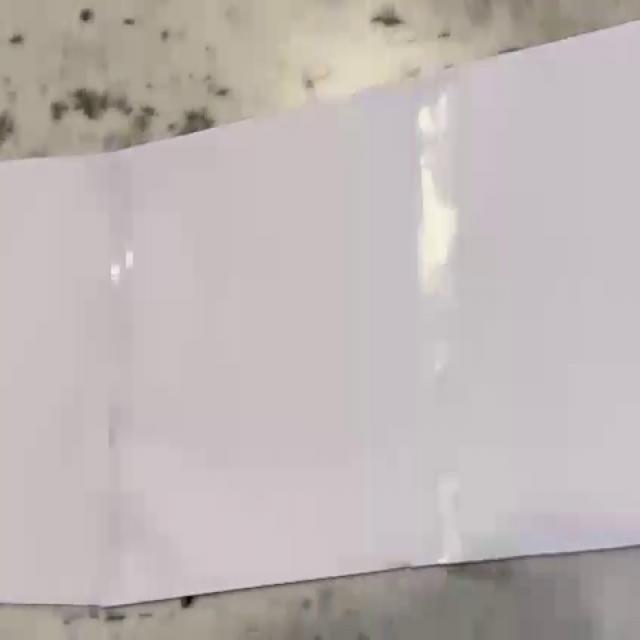road: (0, 21, 640, 605)
